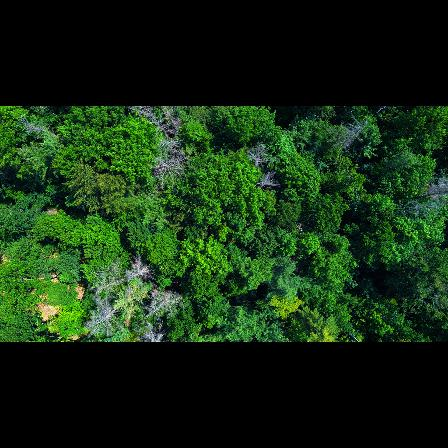Dead: (131, 106, 185, 145), (80, 298, 129, 332), (331, 116, 367, 154), (150, 148, 184, 188), (19, 118, 65, 146), (141, 285, 180, 314), (88, 269, 131, 293), (120, 253, 150, 287), (139, 318, 173, 340), (247, 144, 268, 170), (256, 171, 279, 190)
